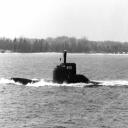submarine: (10, 51, 106, 85)
